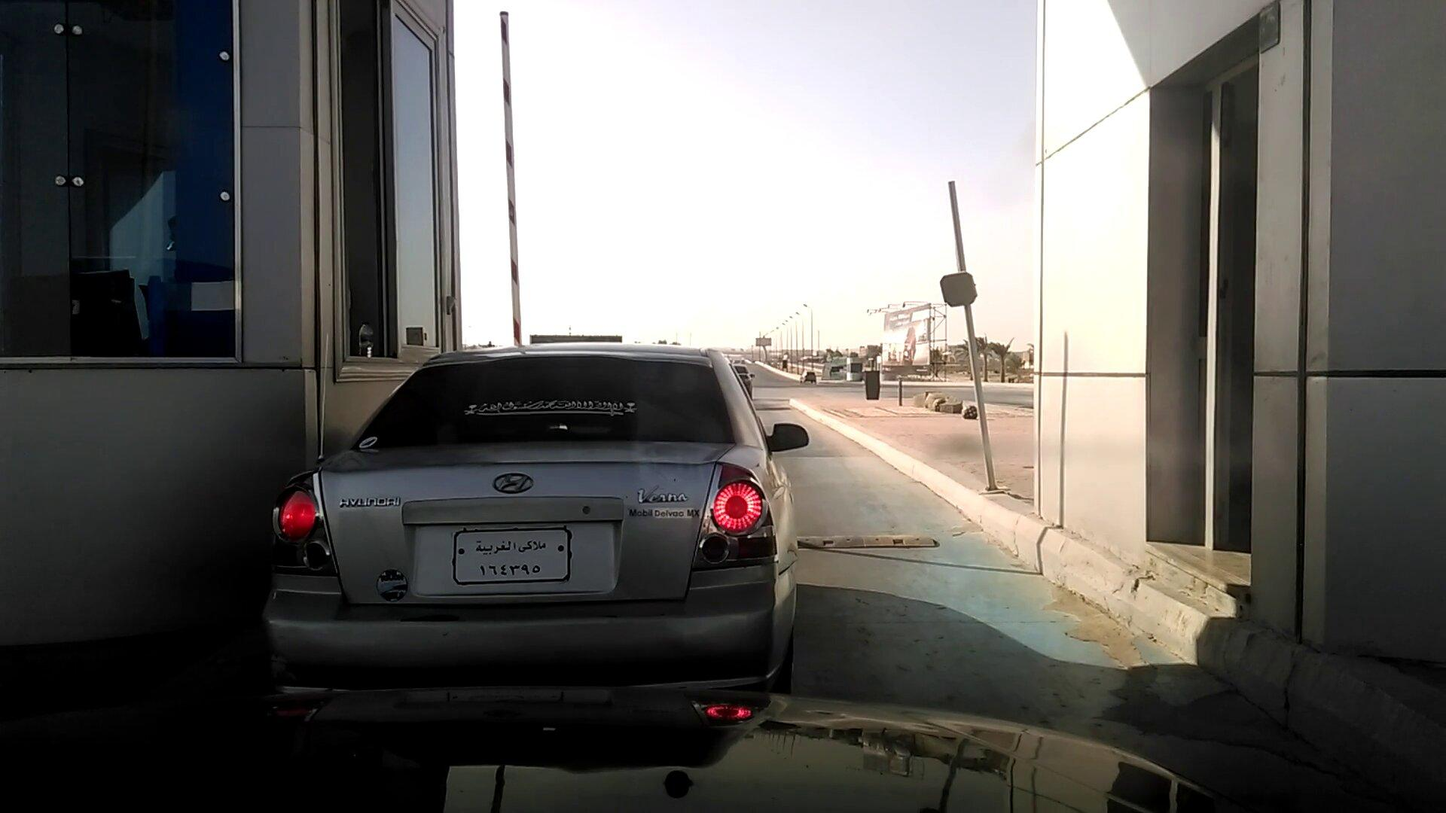Bump: (785, 533, 941, 565)
